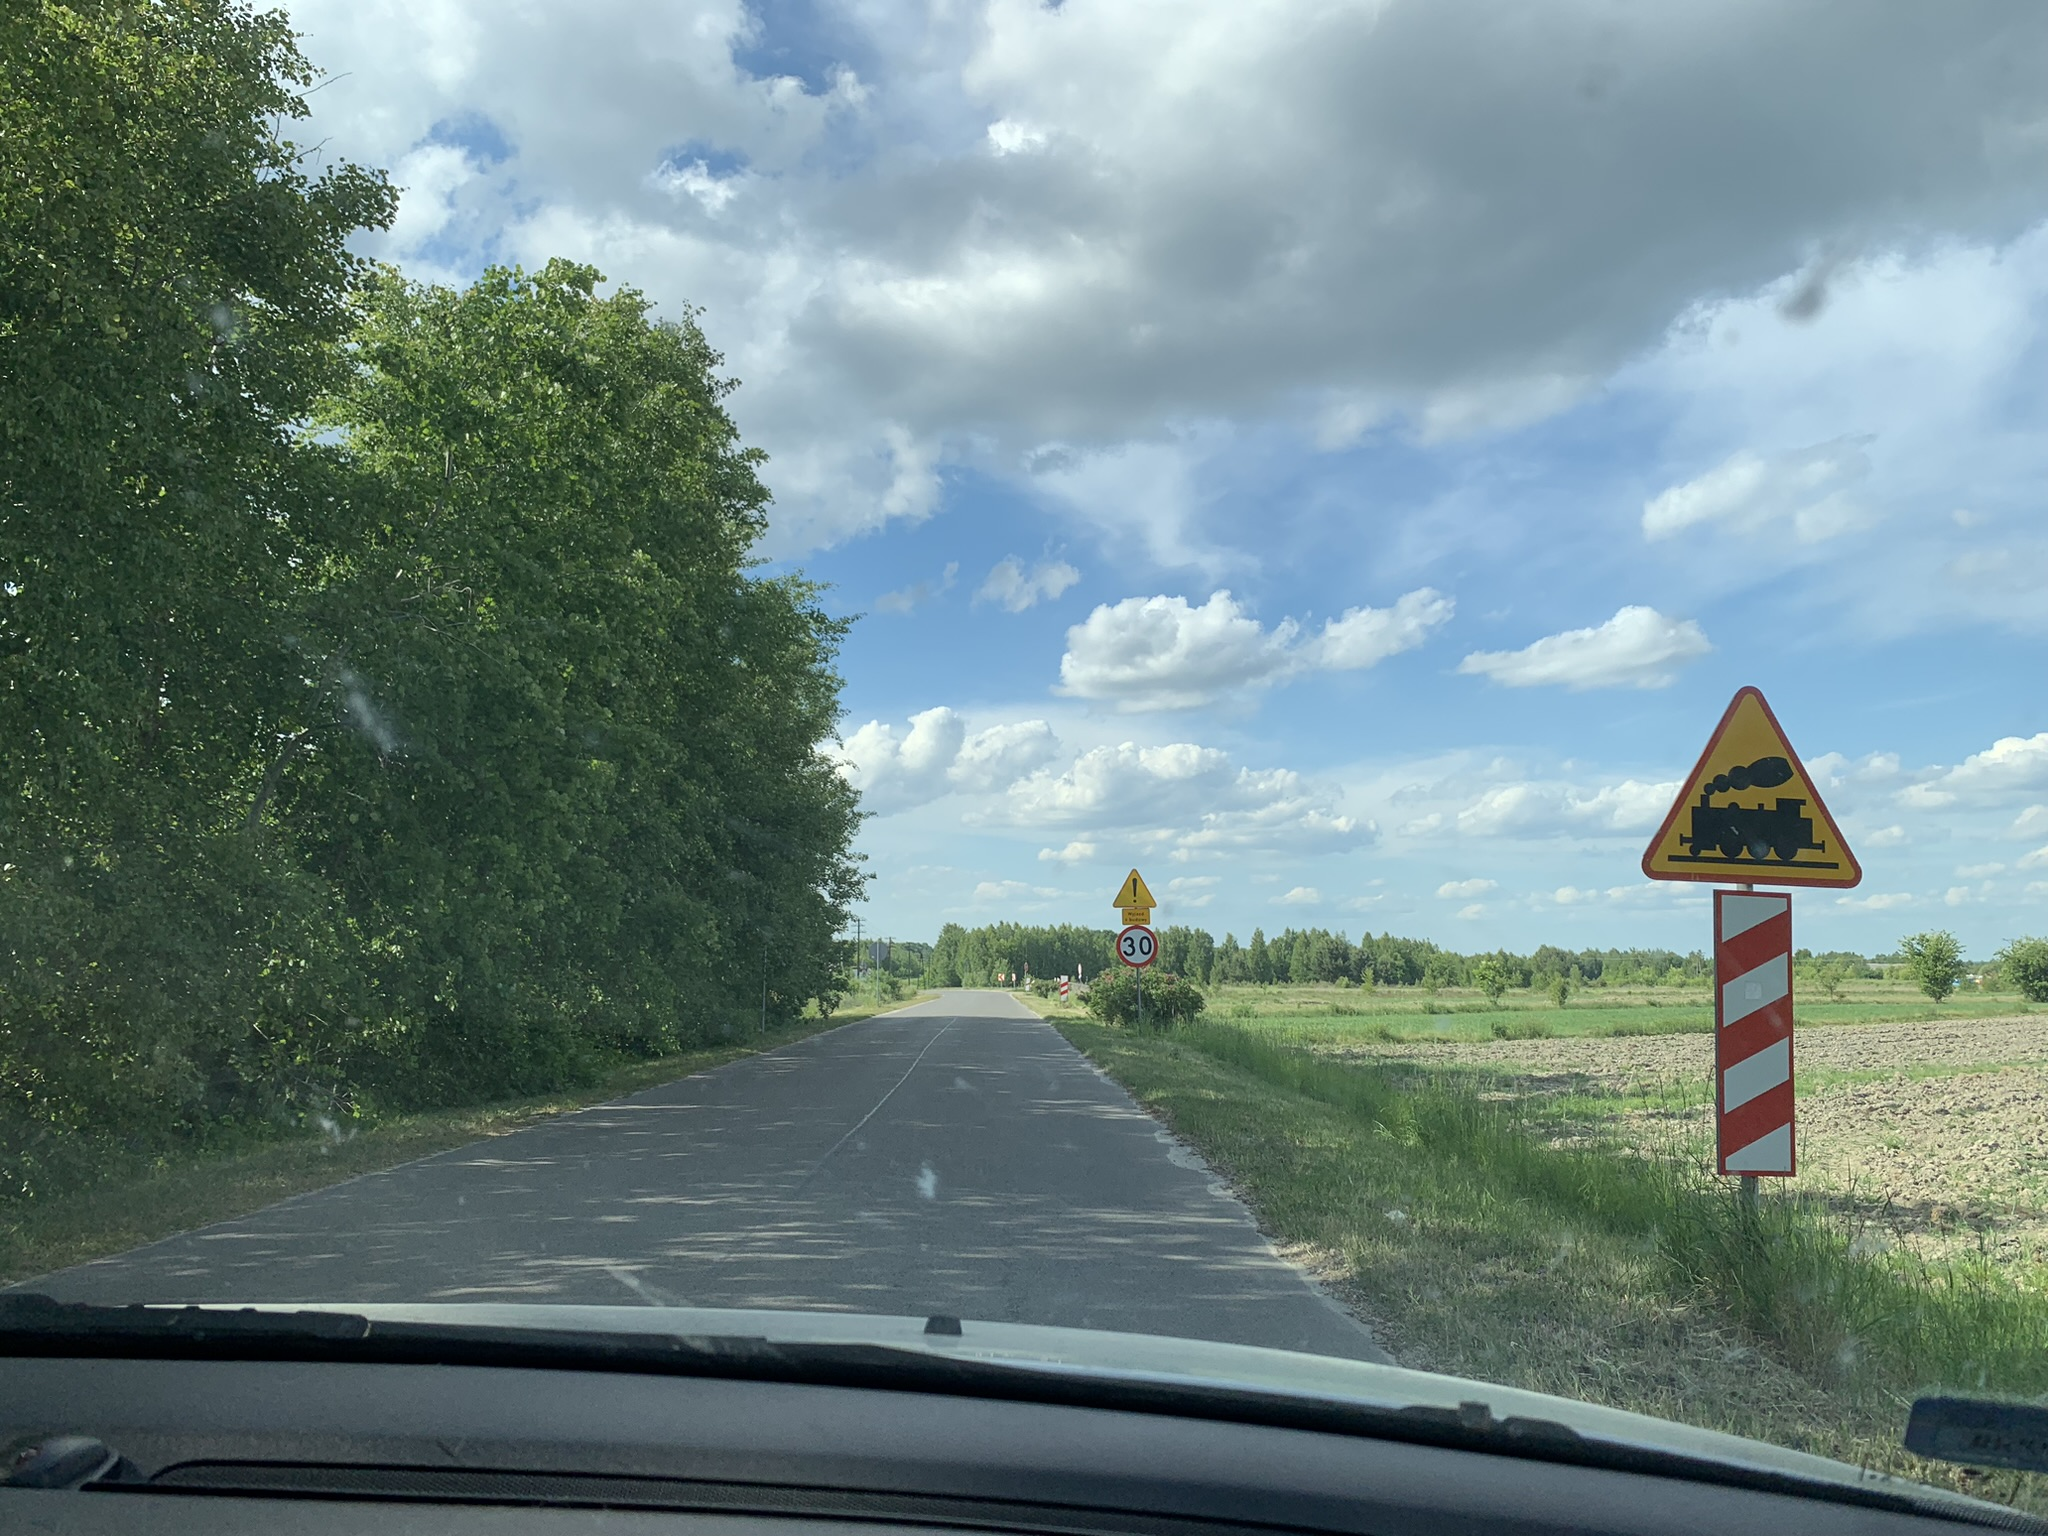a10: (1663, 750, 1845, 874)
